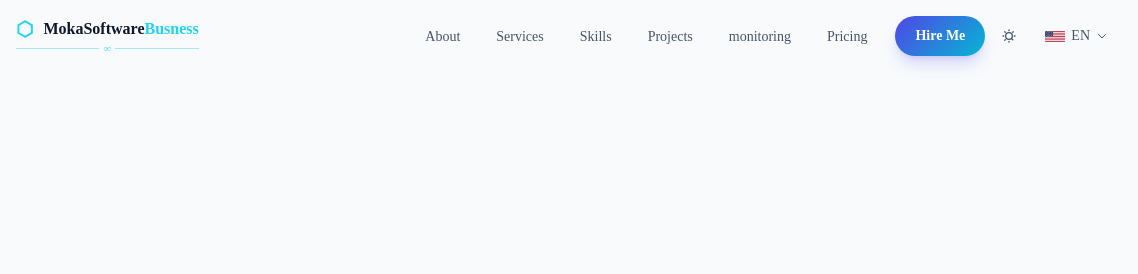
Navbar › closes language dropdown after selecting a locale
Click the button with aria-label "Switch language". click: (1077, 36)
box: [1033,18,1120,54]
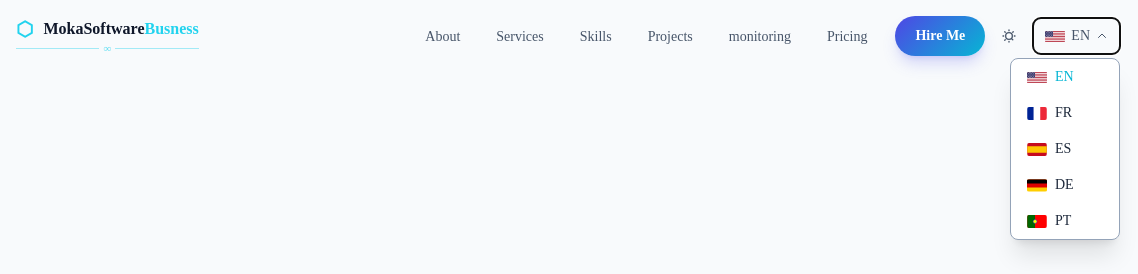
// Dropdown is open — click a locale option
Click the button "FR". click: (1065, 113)
box: [1011,95,1119,131]
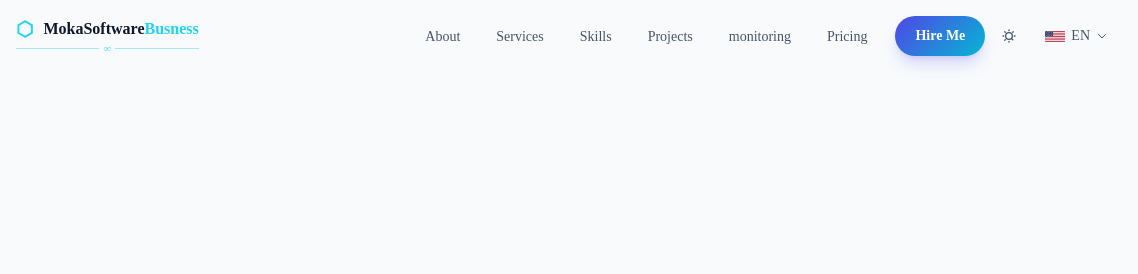
expect the button "FR" is gone: met
